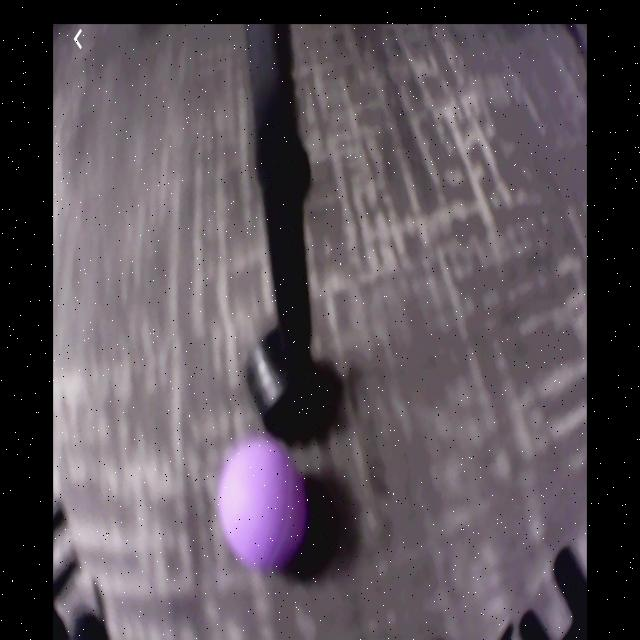ball: (223, 441, 309, 570)
